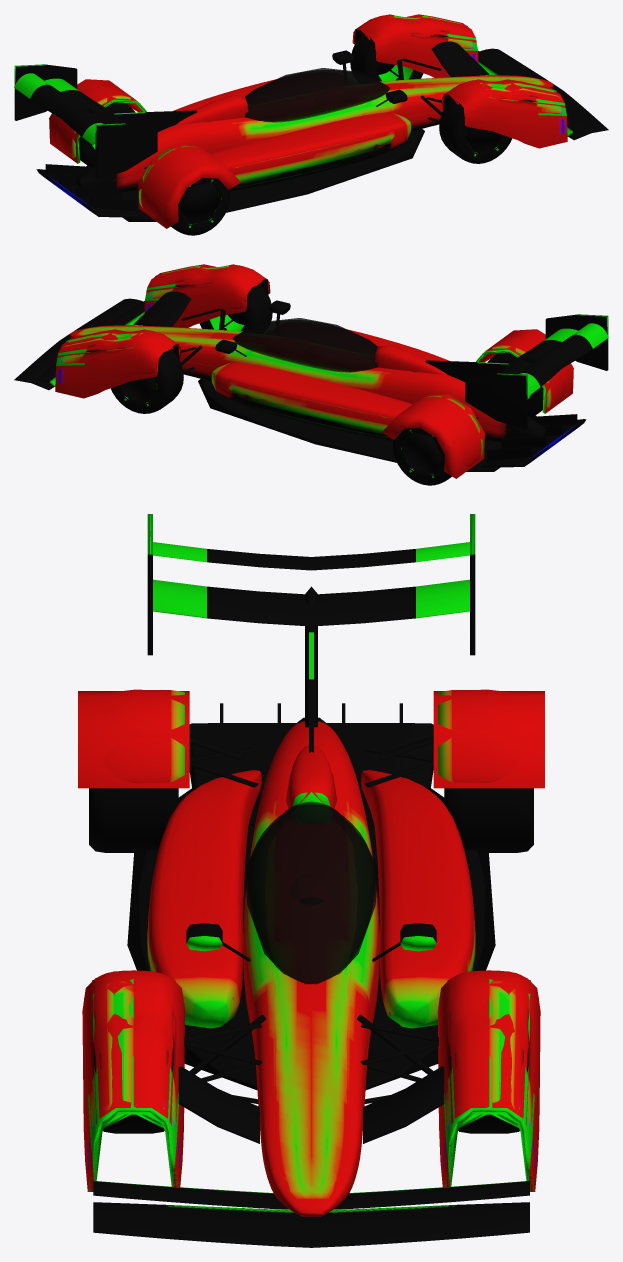
File: spectre.glb
3 views of the same model, one above another, from view 1: azimuth 30°, elevation 25°; view 2: azimuth 150°, elevation 25°; view 3: azimuth 270°, elevation 25° (orthographic). The views are drawn at different scales.
Parts seen in each view (by area): view 1: body_L0, body_L1, body_L2, glass_L0, glass_L1, glass_L2, wheel_RR_L2, wheel_FR_L0, wheel_FR_L2, wheel_FL_L0, wheel_RR_L0, wheel_RL_L0 (+1 smaller); view 2: body_L0, body_L1, body_L2, glass_L0, glass_L1, glass_L2, wheel_RL_L2, wheel_FL_L0, wheel_FL_L2, wheel_FR_L0, wheel_RL_L0, wheel_RR_L0 (+1 smaller); view 3: body_L0, body_L1, body_L2, glass_L0, glass_L2, glass_L1, wheel_RR_L0, wheel_RL_L0.
Part boxes in pixels (x1,y1,x2,y2): body_L0: (14, 15, 608, 220); body_L1: (15, 14, 608, 214); body_L2: (16, 17, 603, 228); glass_L0: (244, 70, 389, 122); glass_L1: (245, 72, 388, 121); glass_L2: (245, 68, 390, 121); wheel_RR_L2: (178, 178, 227, 234); wheel_FR_L0: (439, 100, 511, 163); wheel_FR_L2: (459, 126, 508, 162); wheel_FL_L0: (350, 35, 422, 78); wheel_RR_L0: (171, 178, 230, 235); wheel_RL_L0: (79, 102, 135, 166); body_L0: (14, 265, 608, 470); body_L1: (17, 264, 607, 465); body_L2: (17, 267, 606, 478); glass_L0: (233, 320, 378, 372); glass_L1: (234, 322, 377, 371); glass_L2: (233, 318, 377, 370); wheel_RL_L2: (396, 428, 444, 484); wheel_FL_L0: (111, 350, 183, 413); wheel_FL_L2: (114, 376, 163, 412); wheel_FR_L0: (200, 285, 272, 328); wheel_RL_L0: (392, 428, 451, 485); wheel_RR_L0: (487, 352, 543, 416); body_L0: (83, 514, 539, 1247); body_L1: (82, 545, 540, 1242); body_L2: (78, 548, 544, 1237); glass_L0: (248, 801, 374, 983); glass_L2: (245, 804, 377, 984); glass_L1: (250, 803, 372, 981); wheel_RR_L0: (89, 788, 178, 852); wheel_RL_L0: (444, 788, 533, 852).
Bounding box in the file's own units: 5.5 × 1.26 × 2.18.
